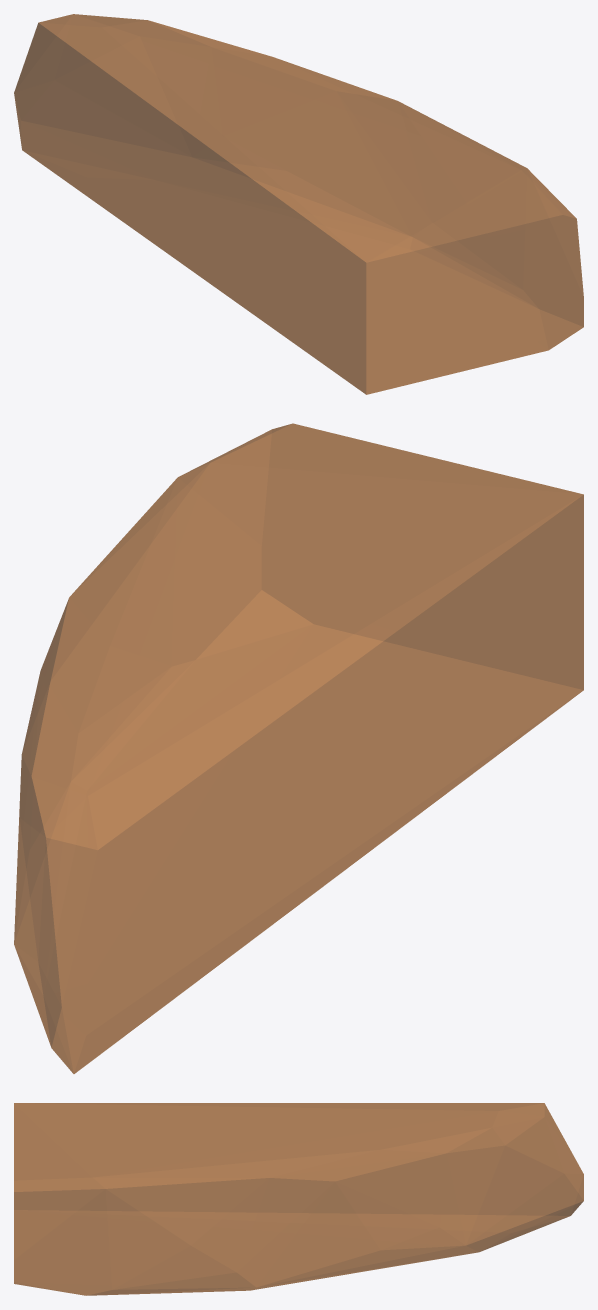
3 renders of one model, top to bottom at view 1: azimuth 30°, elevation 25°; view 2: azimuth 150°, elevation 25°; view 3: azimuth 270°, elevation 25°, orthographic. The views are drawn at different scales.
Parts seen in each view (by area): view 1: Shape_IndexedFaceSet.023_Shape_IndexedFaceSet.10128; view 2: Shape_IndexedFaceSet.023_Shape_IndexedFaceSet.10128; view 3: Shape_IndexedFaceSet.023_Shape_IndexedFaceSet.10128.
Part boxes in pixels (<box>): Shape_IndexedFaceSet.023_Shape_IndexedFaceSet.10128: <box>14,14,583,394</box>; Shape_IndexedFaceSet.023_Shape_IndexedFaceSet.10128: <box>14,423,583,1073</box>; Shape_IndexedFaceSet.023_Shape_IndexedFaceSet.10128: <box>14,1103,583,1295</box>.
Bounding box in the file's own units: 0.0113 × 0.00767 × 0.0318.
